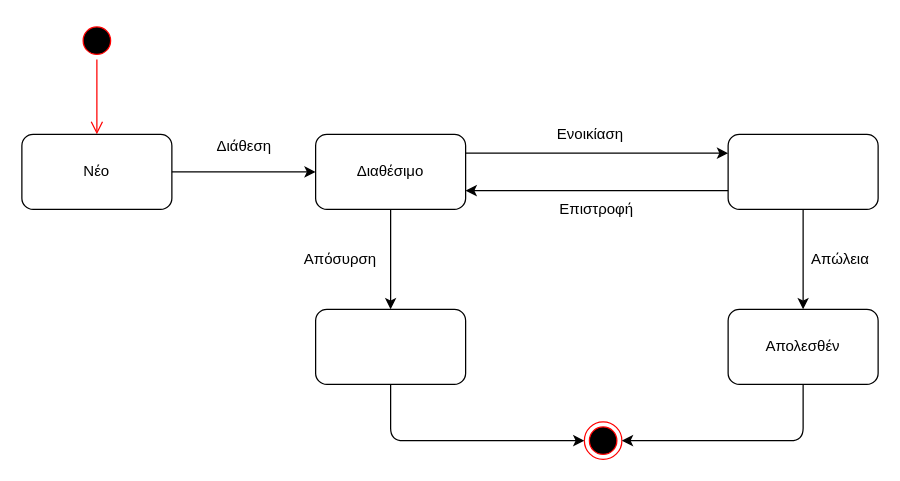
The diagram is 900 pixels wide and 481 high, and some of its shapes have lost their labels. Here are the shapes that lost their labels. From the top down, the box of each, then its label:
(727, 133, 878, 209): Νοικιασμένο
(314, 308, 466, 384): Αποσυρμένο
